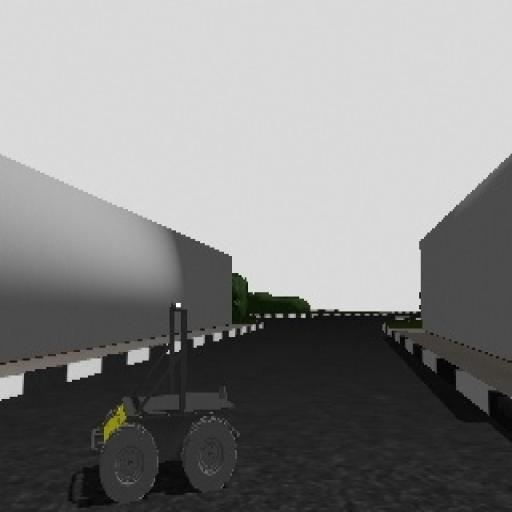huskya200: (90, 296, 252, 506)
